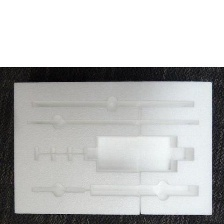foam_box: (9, 76, 215, 219)
